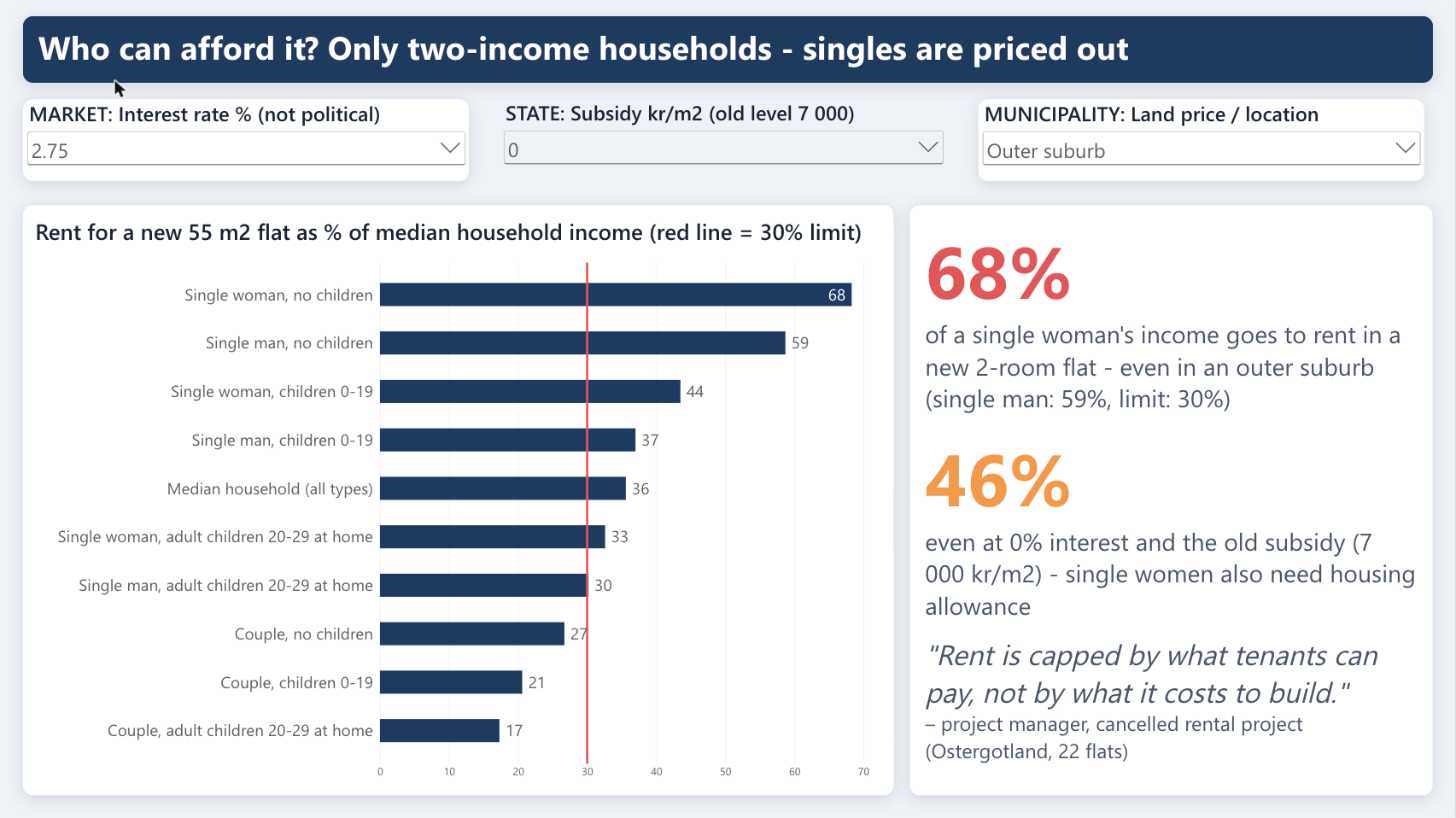

This screenshot's page, from the dashboard's own definition file:
{"tool":"powerbi","page":{"name":"4. Who can afford it?","canvas":[1920,1080],"ordinal":4},"visuals":[{"type":"clusteredBarChart","title":"Rent for a new 55 m2 flat as % of median household income (red line = 30% limit)","fields":{"Category":["affordability.Household type"],"Y":["Avg(affordability.rent_share_pct)"]},"box":[30,270,1150,780],"z":0},{"type":"slicer","fields":{"Values":["affordability.interest_rate"]},"box":[30,130,590,110],"z":1000},{"type":"slicer","fields":{"Values":["affordability.subsidy_per_m2"]},"box":[660,130,590,110],"z":2000},{"type":"slicer","fields":{"Values":["affordability.Area"]},"box":[1290,130,590,110],"z":3000},{"type":"textbox","box":[1200,270,691,780],"z":4000},{"type":"textbox","box":[30,20,1861,90],"z":5000}]}

Visuals, with their boxes in screenshot pixels (x1, y1, x2, y2), scaled from the page's 1920x1080 canvas onto the 1456x818 screenshot:
"Rent for a new 55 m2 flat as % of median household income (red line = 30% limit)" clusteredBarChart: l=23, t=204, r=895, b=795
slicer - affordability.interest_rate: l=23, t=98, r=470, b=182
slicer - affordability.subsidy_per_m2: l=500, t=98, r=948, b=182
slicer - affordability.Area: l=978, t=98, r=1426, b=182
textbox: l=910, t=204, r=1434, b=795
textbox: l=23, t=15, r=1434, b=83
